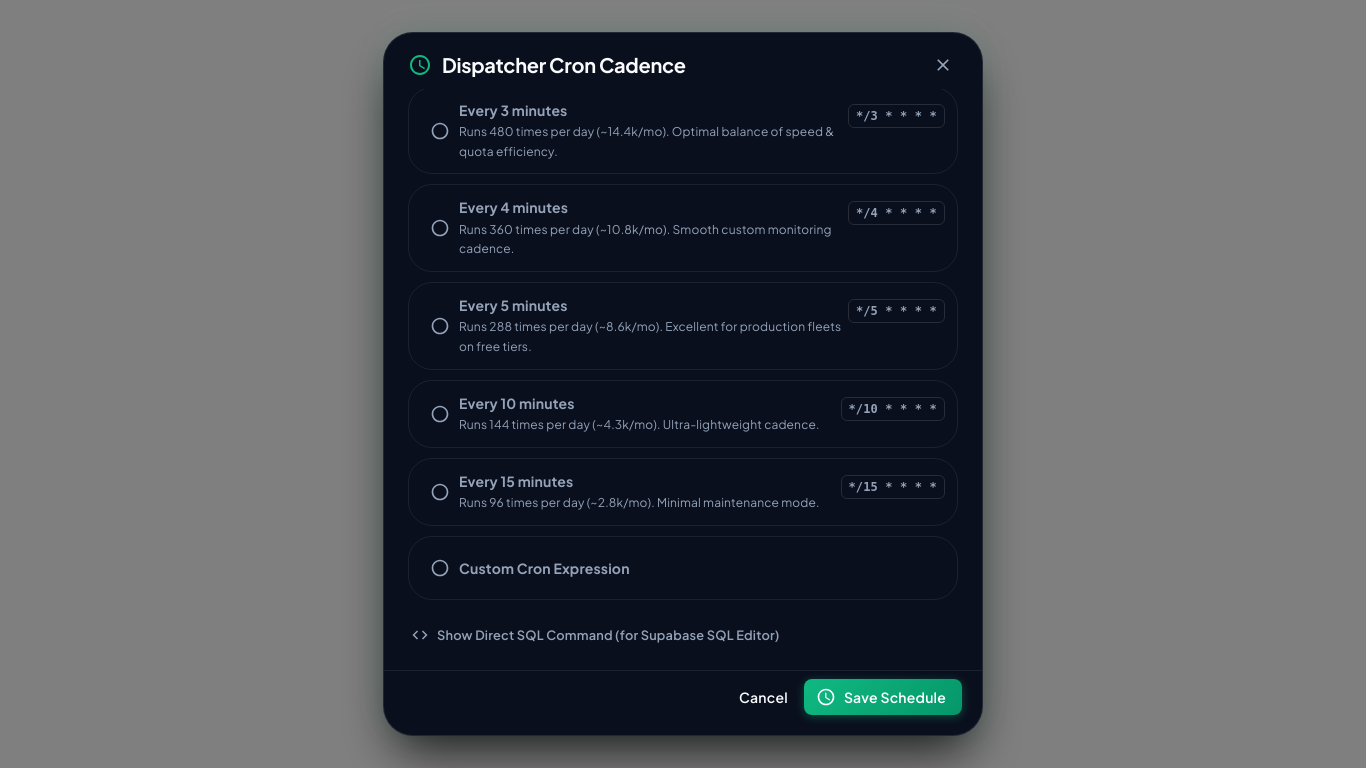
Test: CronScheduleModal Component › validates custom cron expression format
The width and height of the screenshot is (1366, 768).
(page scrolled)
// Select custom cron
Click the text "Custom Cron Expression".
click(544, 568)  # box top-left (459, 558), bottom-right (630, 578)
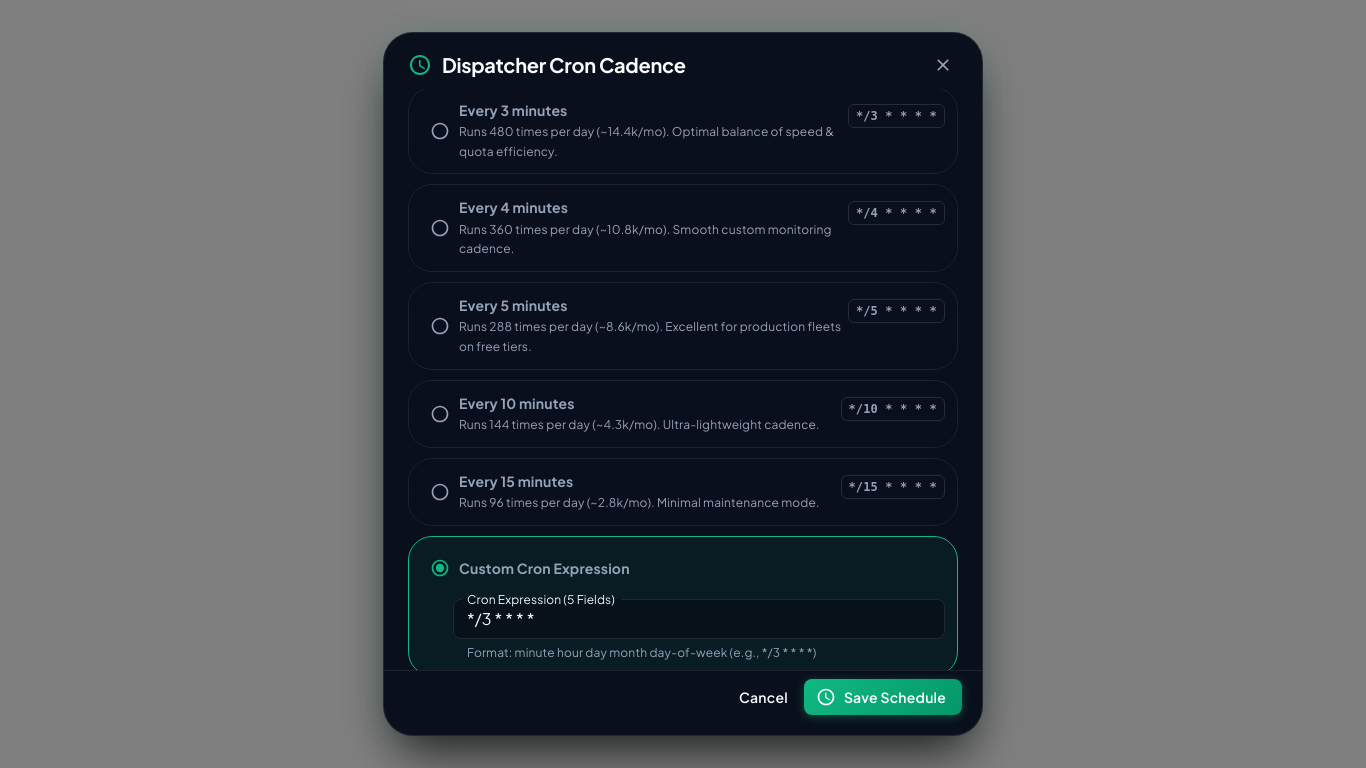
Type "invalid cron" into the field with placeholder "*/3 * * * *".
click(699, 619); type("invalid cron")  # box top-left (453, 599), bottom-right (945, 639)
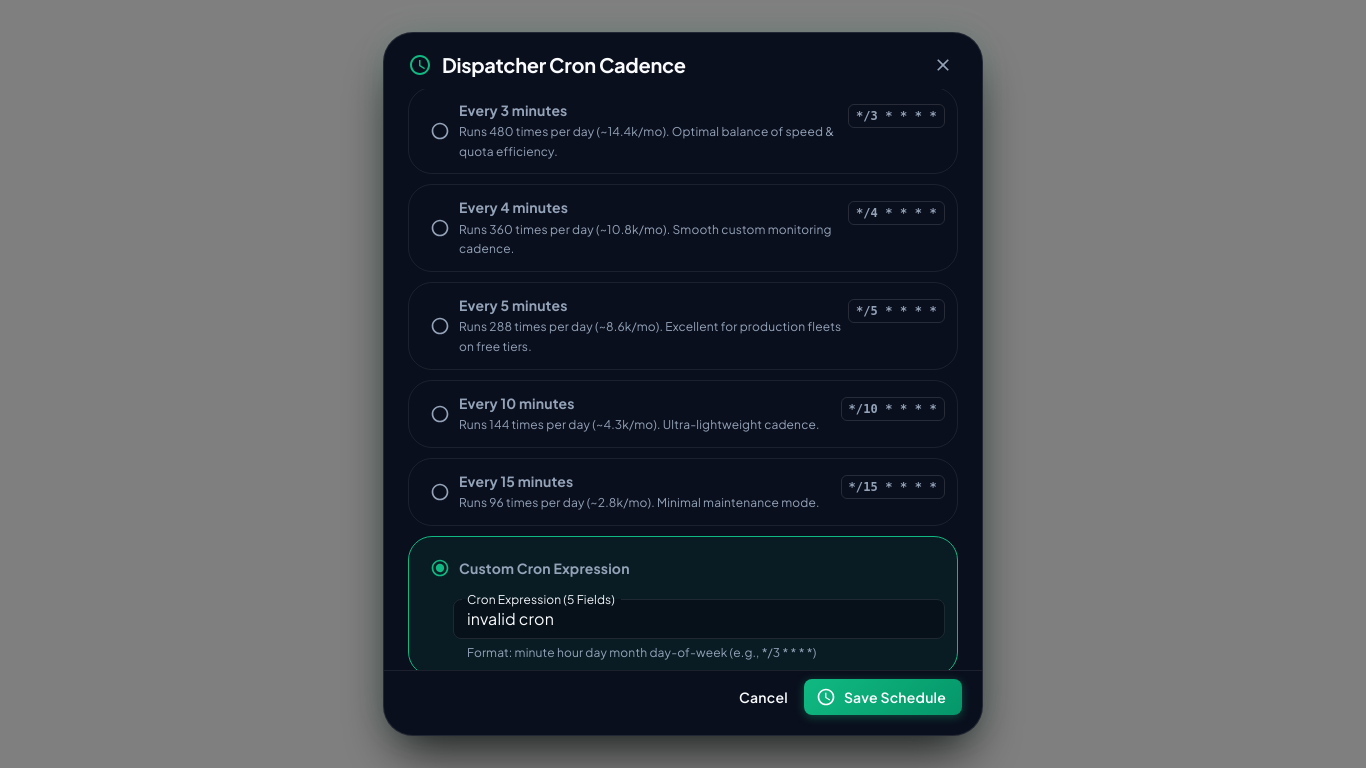
// Click Save
Click the button "Save Schedule".
click(883, 697)  # box top-left (804, 678), bottom-right (962, 715)
(page scrolled)
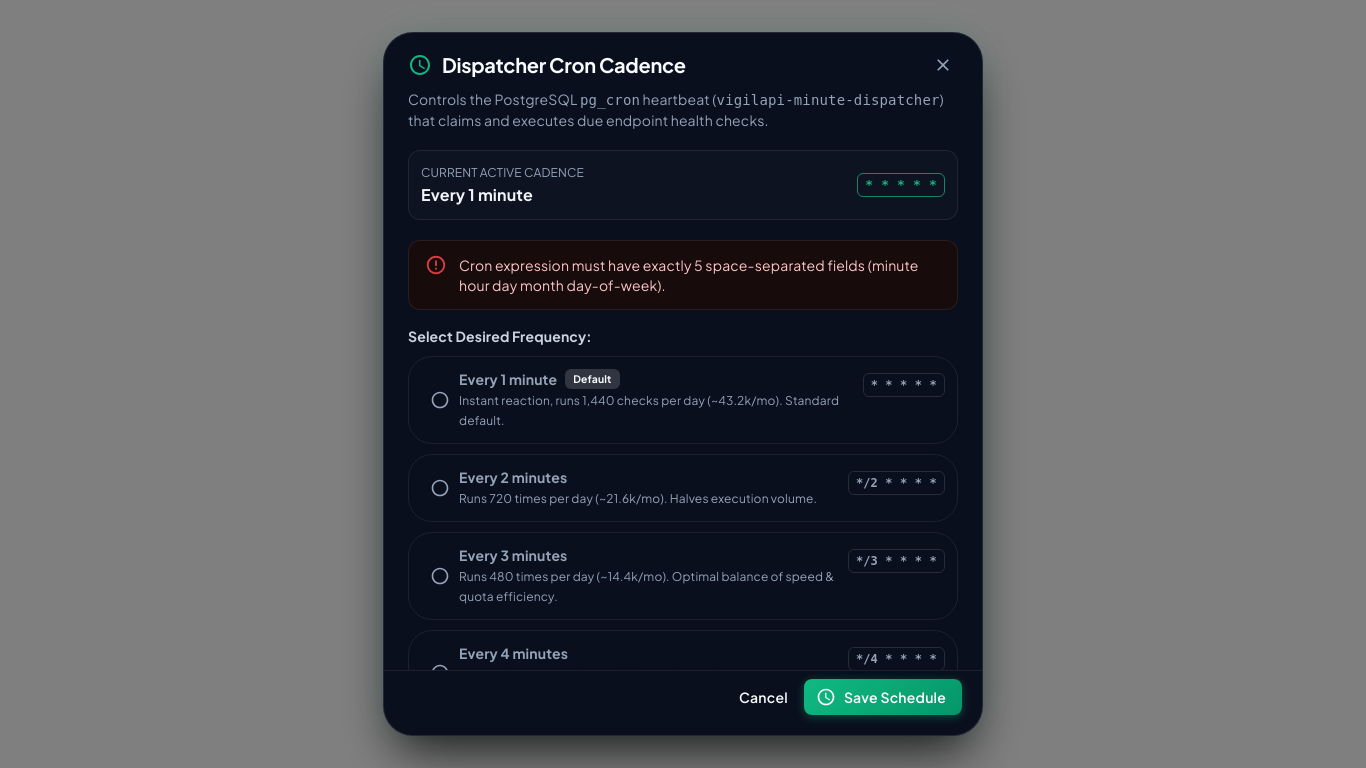
Expected: the text "Cron expression must have exactly 5 space-separated fields" is shown, top-left (459, 256), bottom-right (919, 294)
